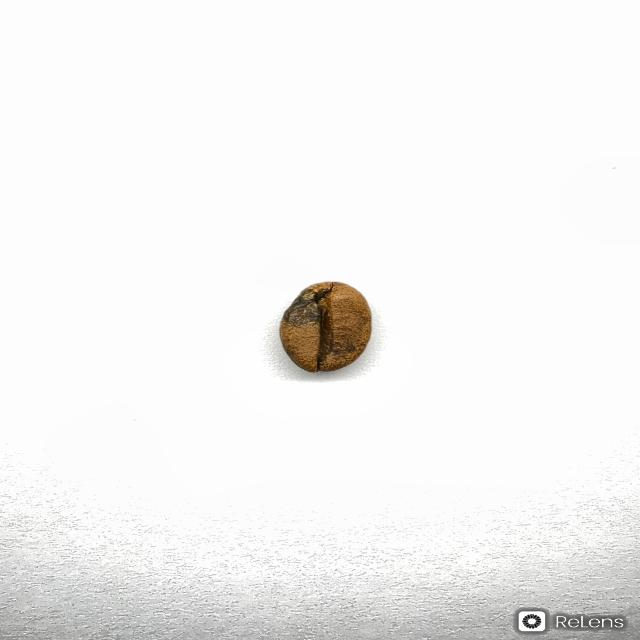Scorched: (277, 279, 374, 374)
